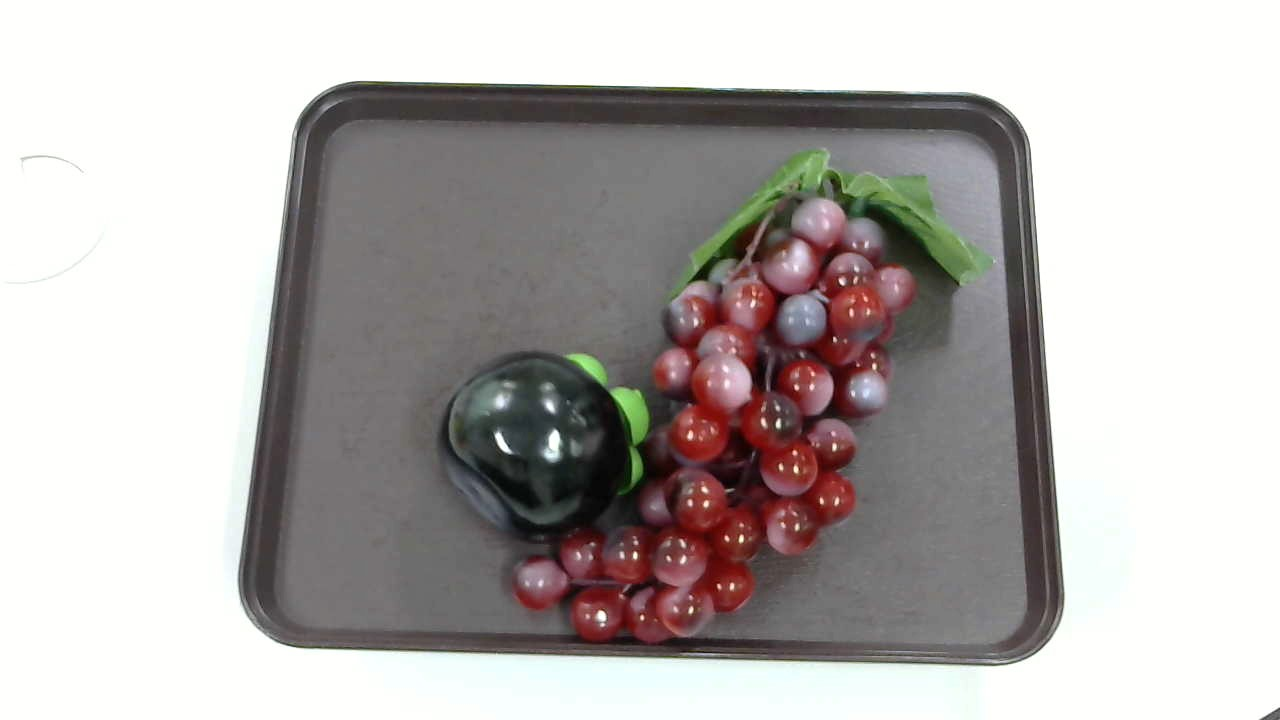grape: (517, 146, 991, 639)
mangosteen: (435, 342, 649, 539)
